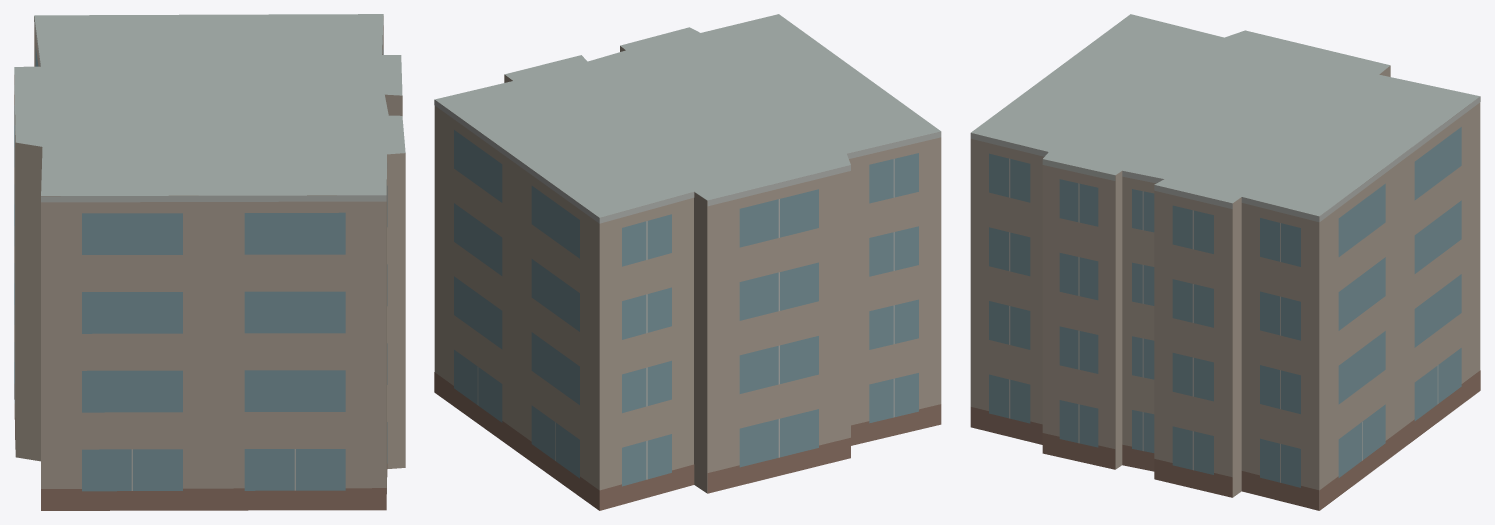
Rendered from survey-upis-32847831.glb.
3 views of the same model, side by side, from view 1: azimuth 30°, elevation 25°; view 2: azimuth 150°, elevation 25°; view 3: azimuth 270°, elevation 25° (orthographic). The views are drawn at different scales.
Parts seen in each view (by area): view 1: survey-upis-32847831.tmp; view 2: survey-upis-32847831.tmp; view 3: survey-upis-32847831.tmp.
Part boxes in pixels (box(x1,y1,x2,y2)): survey-upis-32847831.tmp: box(14, 14, 405, 510); survey-upis-32847831.tmp: box(434, 14, 941, 510); survey-upis-32847831.tmp: box(970, 14, 1480, 510).
Size of the model in its own units: 18 by 12.2 by 19.15.
